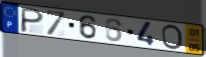4: (135, 20, 158, 49)
6: (77, 15, 98, 41), (105, 18, 125, 43)
7: (45, 9, 67, 37)
O: (161, 23, 185, 51)
P: (19, 6, 46, 34)
